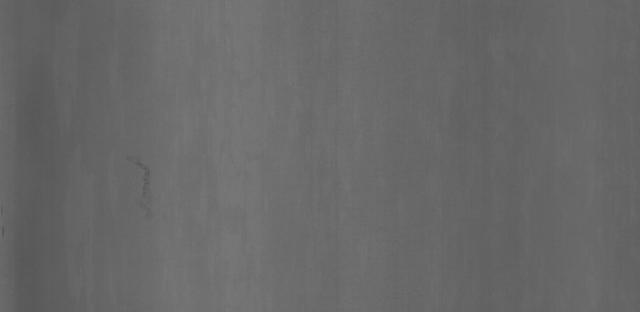water_spot: (124, 138, 173, 220)
